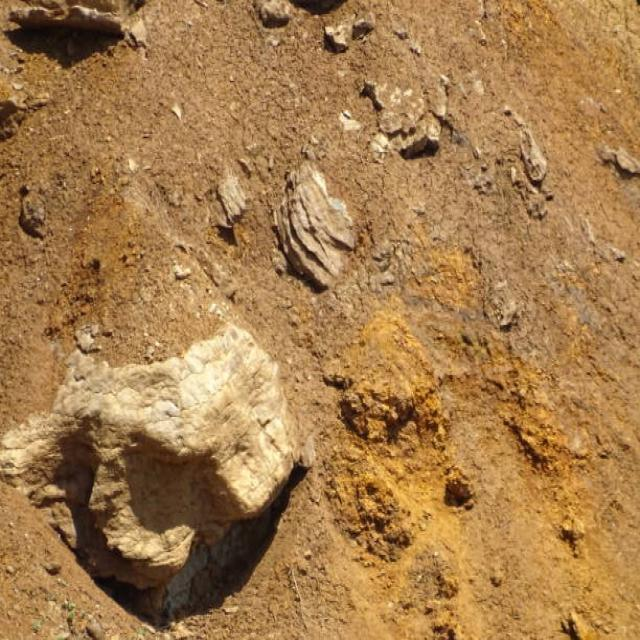Sedimentary: (1, 344, 318, 597), (278, 146, 357, 294), (369, 64, 459, 172)
